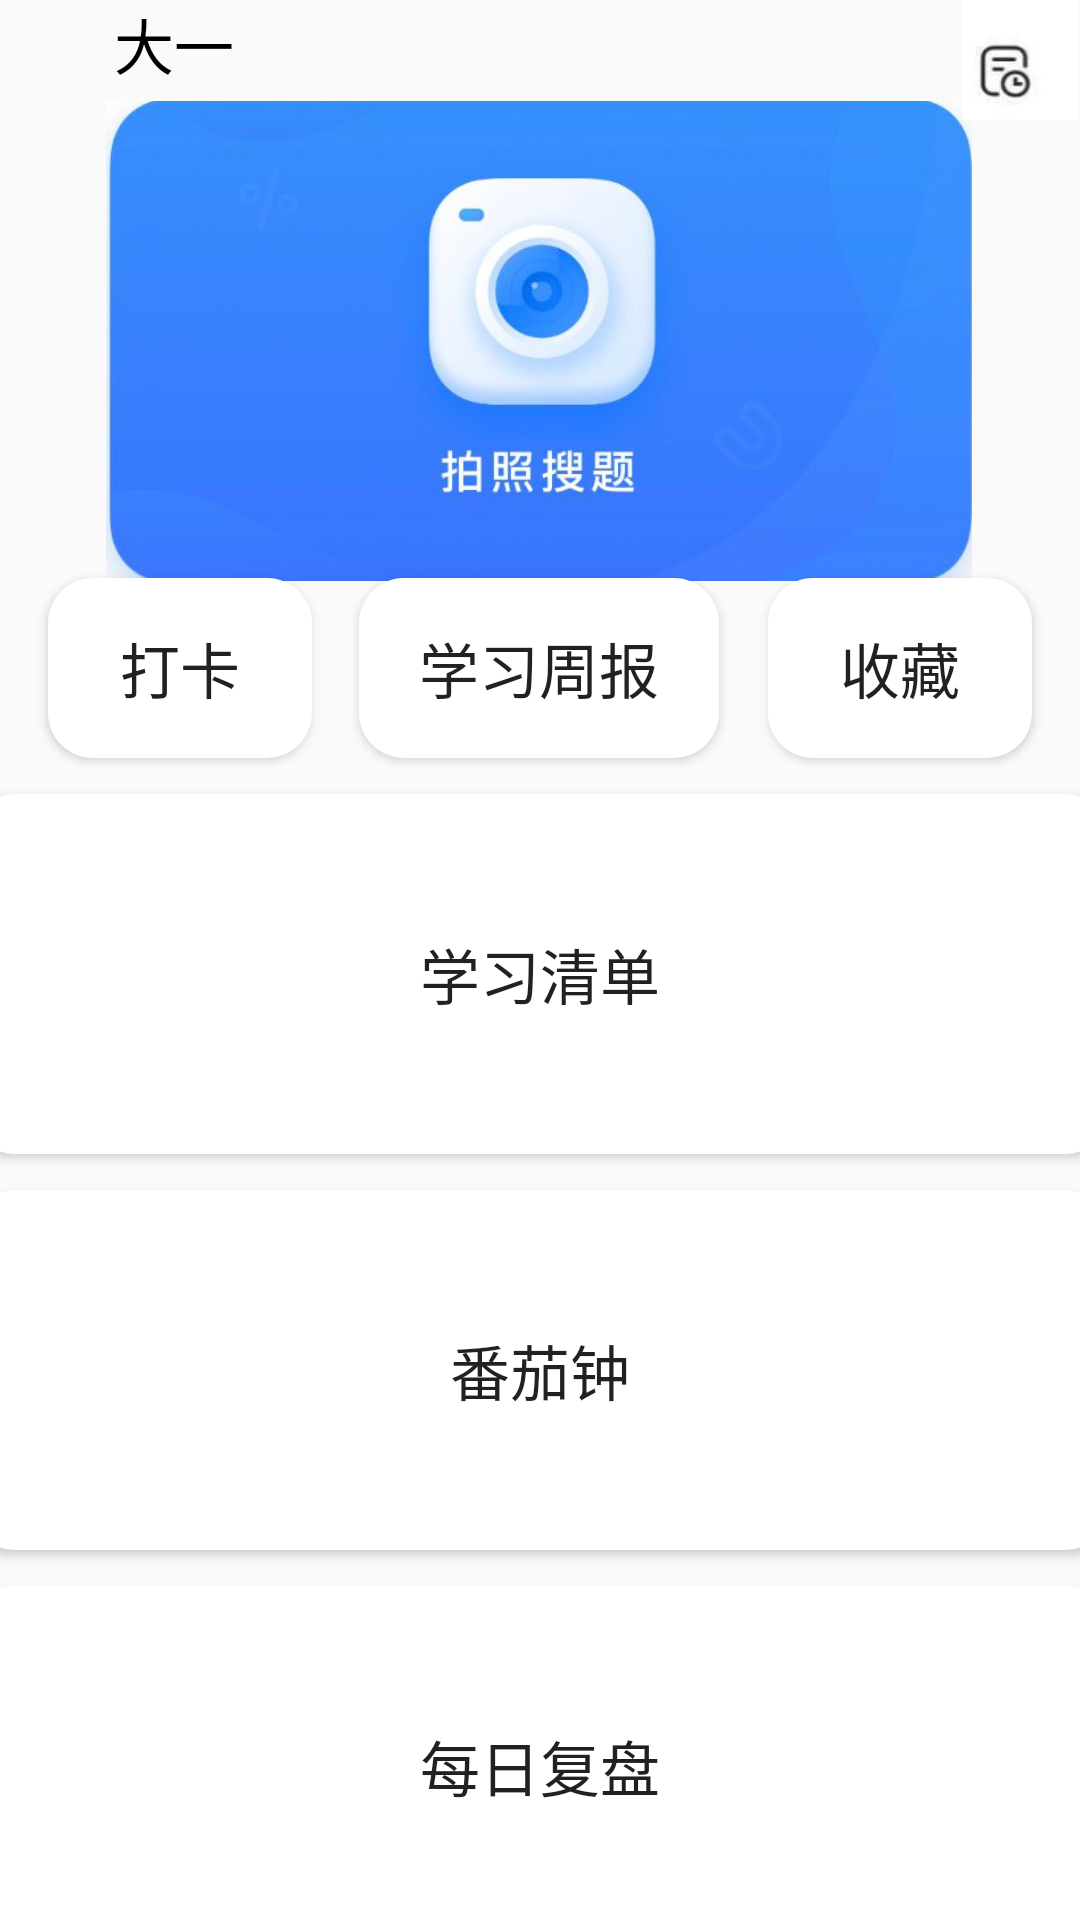

Icons on this 1080×1920 Android screen, each with the point to tap as [x,y]:
history: [1005,71]
